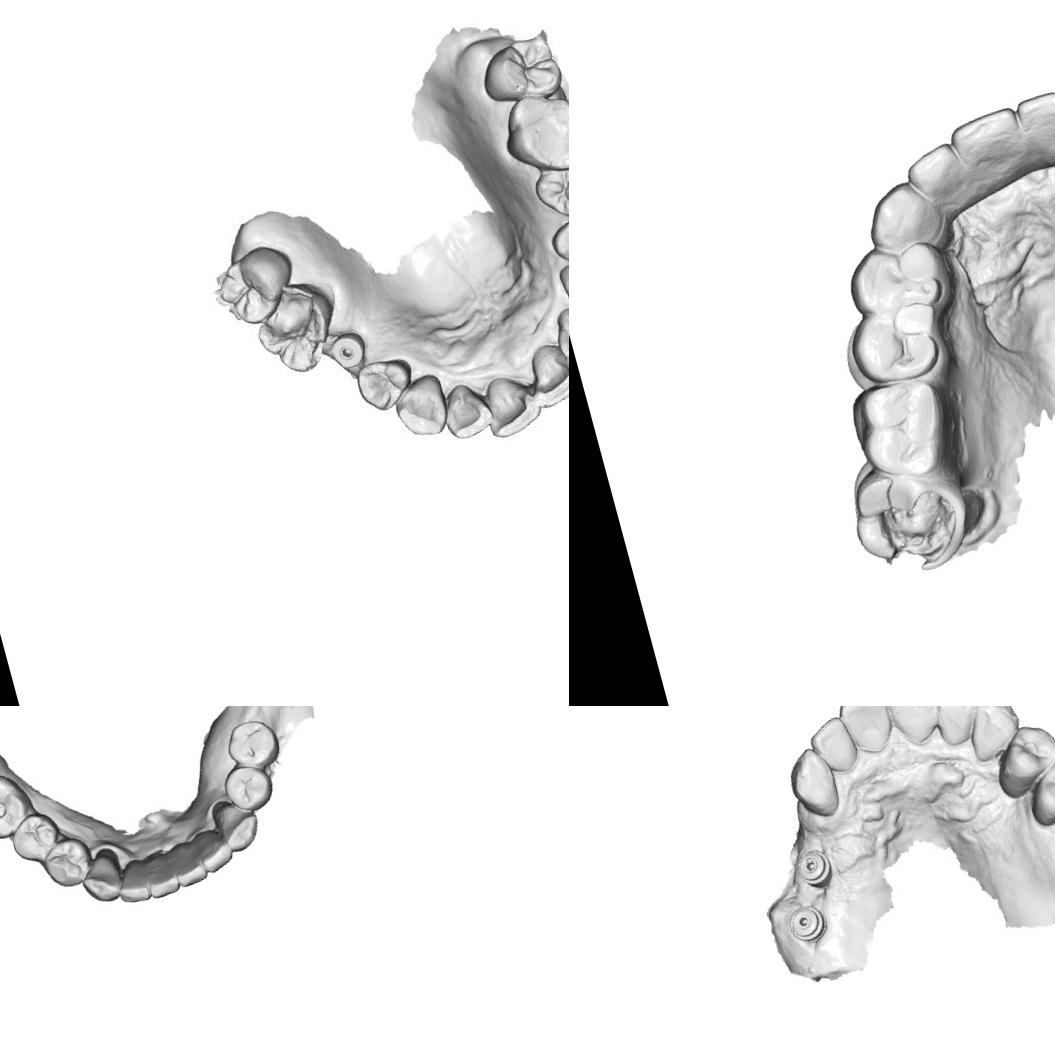canine: (854, 173, 945, 260), (385, 366, 455, 446), (781, 742, 844, 824), (959, 706, 1027, 765), (206, 791, 266, 857), (74, 846, 128, 908)
implant: (782, 900, 830, 948), (328, 332, 372, 373)
implant_minus: (792, 846, 836, 894)
incisor: (940, 100, 1028, 174), (899, 137, 966, 202), (475, 374, 543, 436), (804, 712, 862, 779), (834, 706, 900, 759), (1010, 78, 1055, 150), (440, 380, 492, 438), (522, 339, 569, 399), (882, 706, 948, 748), (925, 706, 987, 749), (190, 824, 236, 876), (167, 834, 210, 889), (139, 848, 182, 900), (110, 856, 152, 907), (551, 302, 569, 357)
molar: (839, 451, 984, 589), (838, 367, 960, 491), (250, 282, 342, 376), (478, 26, 566, 104), (207, 246, 292, 326), (501, 84, 569, 180), (0, 764, 39, 845)
premolar: (836, 233, 952, 324), (844, 298, 946, 394), (985, 717, 1055, 802), (219, 713, 283, 775), (4, 805, 66, 868), (217, 757, 278, 818), (37, 832, 98, 892), (354, 355, 414, 412), (1019, 750, 1055, 829), (529, 160, 569, 223), (550, 208, 569, 267)
